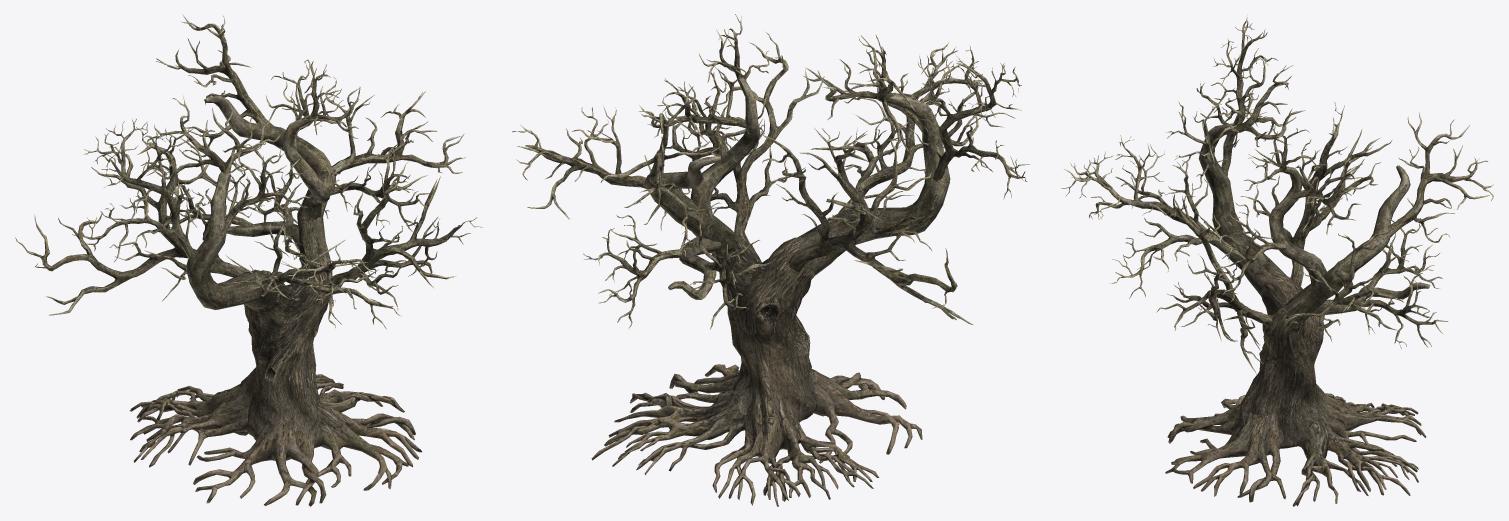
File: DryTreeT3_2_SM_02.fbx
3 views of the same model, side by side, from view 1: azimuth 30°, elevation 25°; view 2: azimuth 150°, elevation 25°; view 3: azimuth 270°, elevation 25° (orthographic). The views are drawn at different scales.
Visible parts, largest first — view 1: DryTreeT3_2_SM_02; view 2: DryTreeT3_2_SM_02; view 3: DryTreeT3_2_SM_02.
Part boxes in pixels (bbox=[...]): DryTreeT3_2_SM_02: bbox=[15, 14, 482, 506]; DryTreeT3_2_SM_02: bbox=[512, 14, 1030, 506]; DryTreeT3_2_SM_02: bbox=[1061, 15, 1493, 506].
Bounding box in the file's own units: 2536 × 2145 × 2416.
